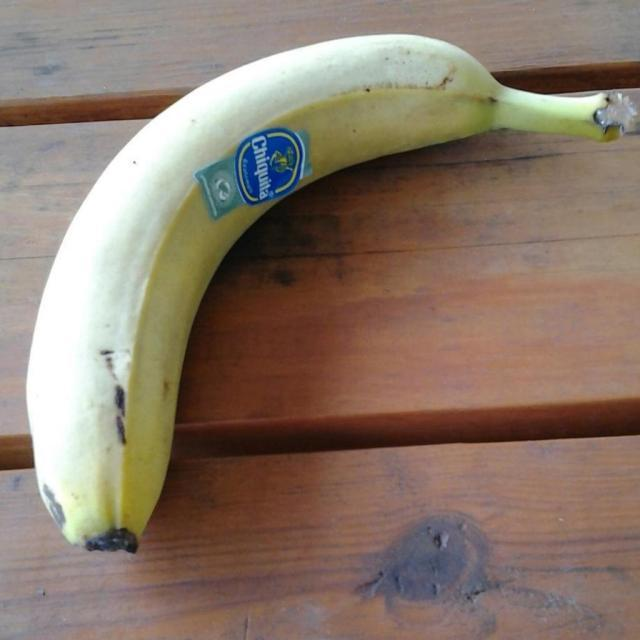Banana: (24, 32, 638, 559)
